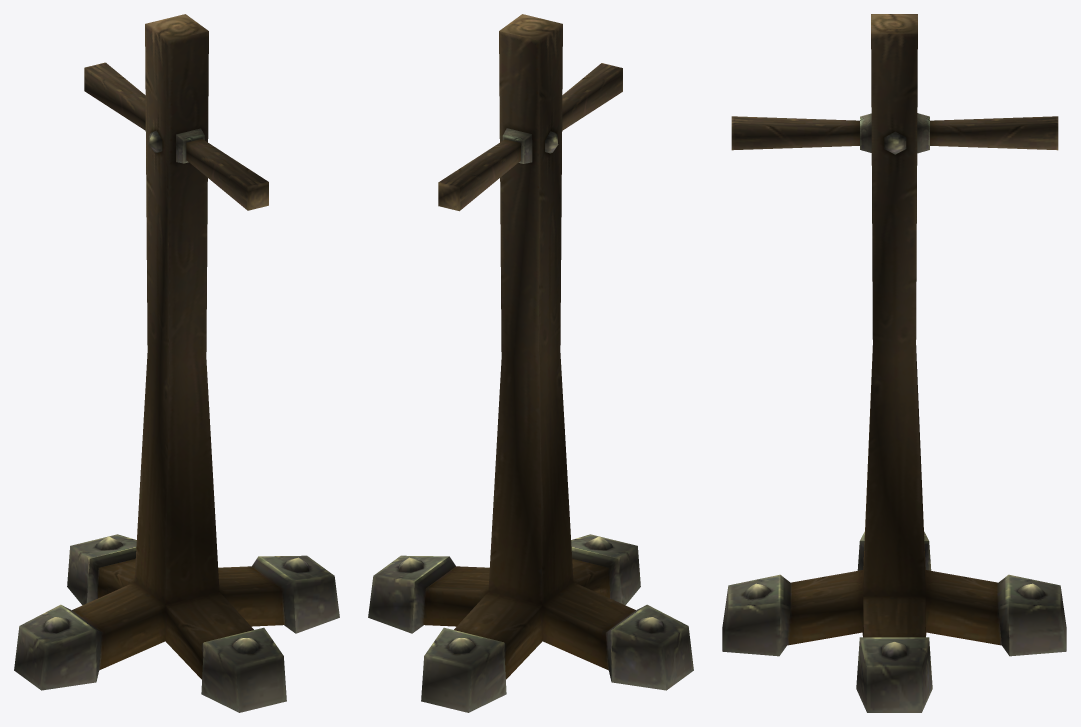
The model's file is armorstand.obj.
3 views of the same model, side by side, from view 1: azimuth 30°, elevation 25°; view 2: azimuth 150°, elevation 25°; view 3: azimuth 270°, elevation 25° (orthographic).
Parts seen in each view (by area): view 1: armorstand.m2; view 2: armorstand.m2; view 3: armorstand.m2.
Part boxes in pixels (box(x1,y1,x2,y2)): armorstand.m2: box(14, 14, 339, 712); armorstand.m2: box(368, 14, 693, 712); armorstand.m2: box(722, 14, 1066, 712).
Size of the model in its own units: 0.9097 by 1.8 by 0.9097.
1 material, 1 textured.
